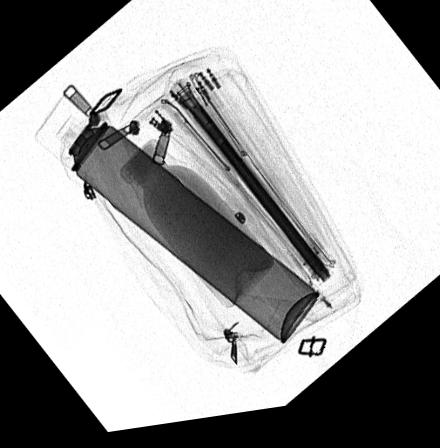Sprayer: (33, 94, 318, 352)
